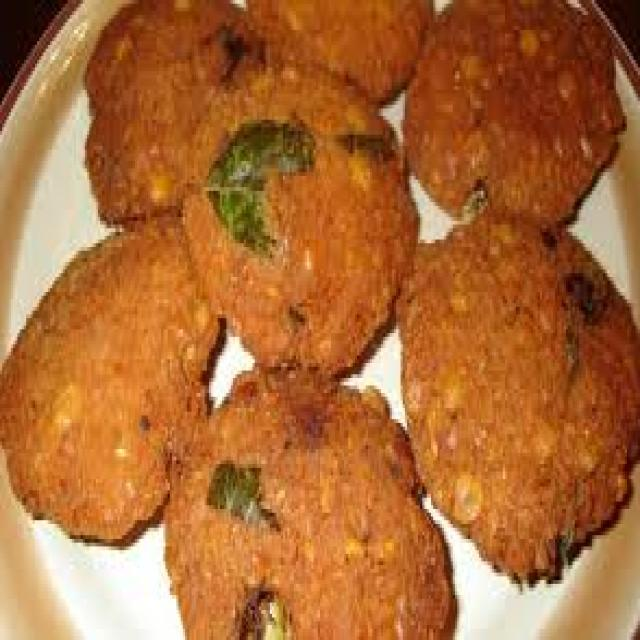parupu vadai: (401, 211, 640, 581), (166, 363, 450, 640), (180, 59, 415, 383), (0, 217, 218, 539), (408, 0, 623, 229), (82, 0, 264, 226), (244, 0, 429, 101)
